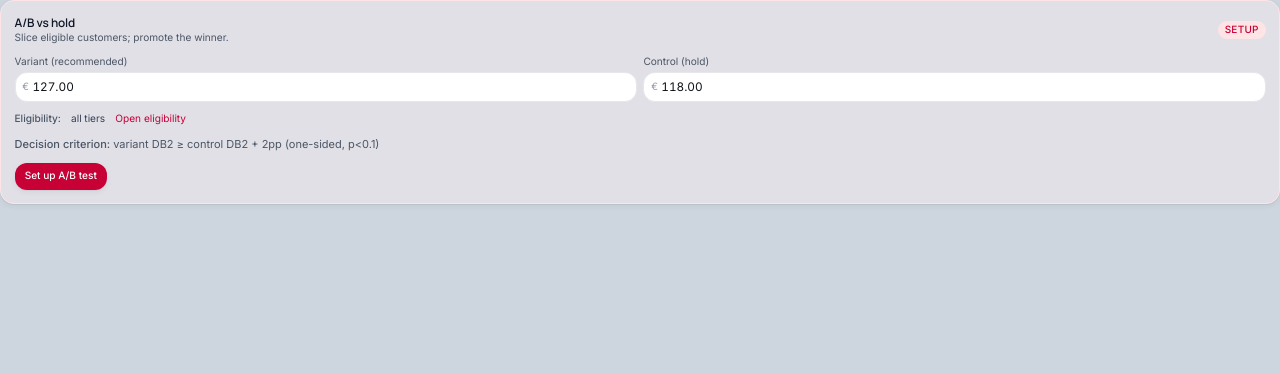
Test: ABTestCard › reveals eligibility editor and toggles tiers
Click the button "Open eligibility" at (151, 119), box [115, 112, 186, 126]
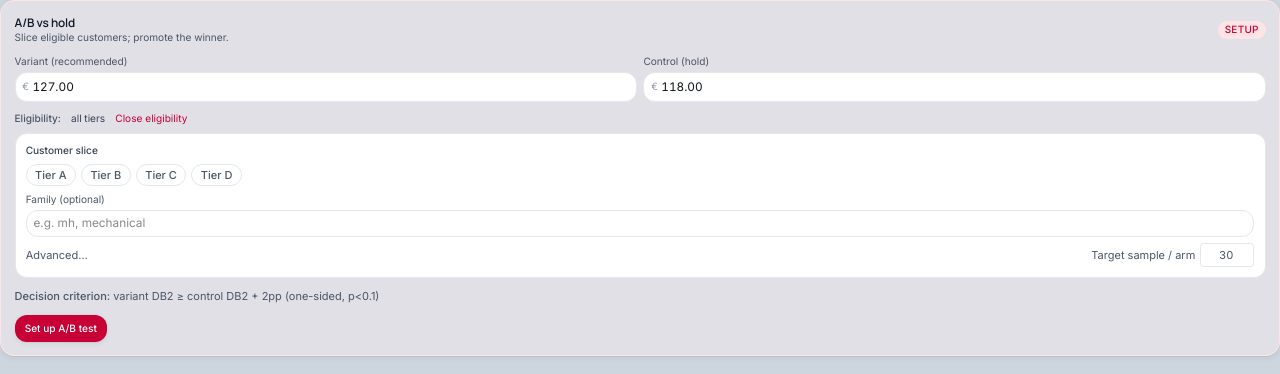
Now the element with test id "ab-test-eligibility" is shown, box [14, 133, 1266, 278]
Click the button "Tier B" at (106, 175), box [81, 164, 131, 186]
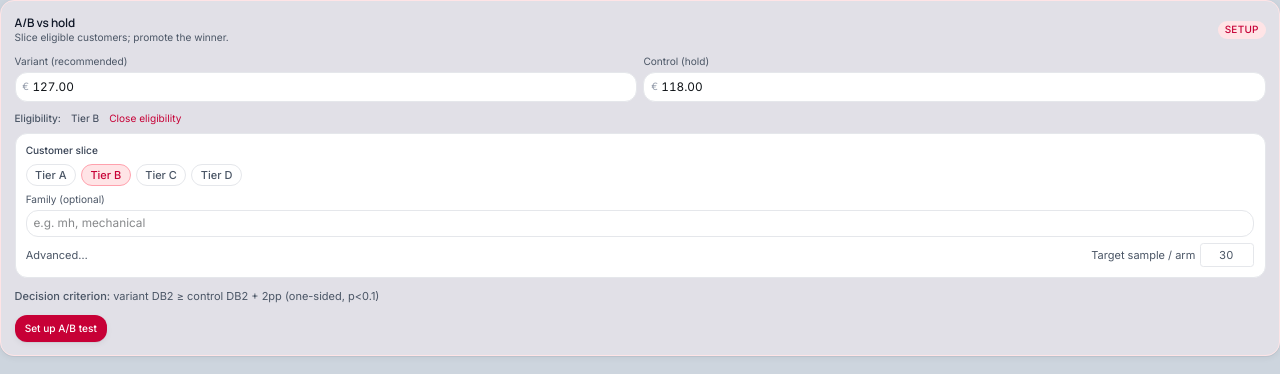
Now the text "Tier B" is shown, box [71, 112, 99, 126]
